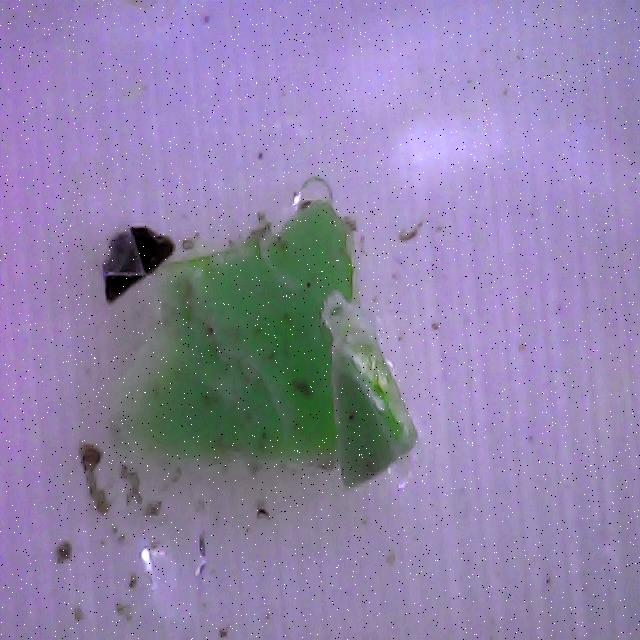fragments: (115, 183, 361, 472), (317, 283, 424, 488), (79, 210, 180, 303)
